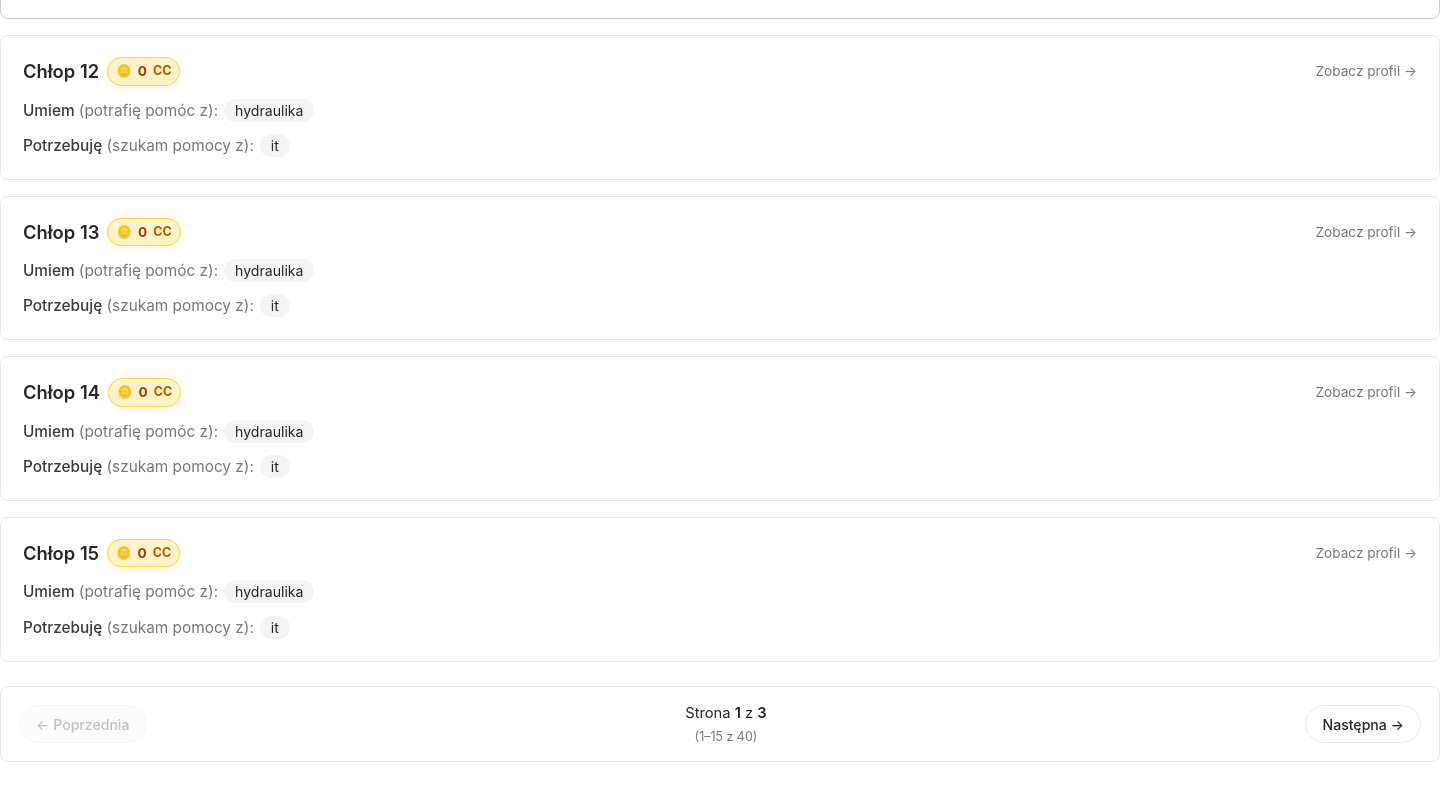
Test: HomeView: stronicowanie › pokazuje 15 kart na stronę i przełącza strony
(page scrolled)
Check: the button "← Poprzednia" is disabled, box [19,705,146,743]
Click the button "Następna →": (1363,724) [1306,705,1421,743]
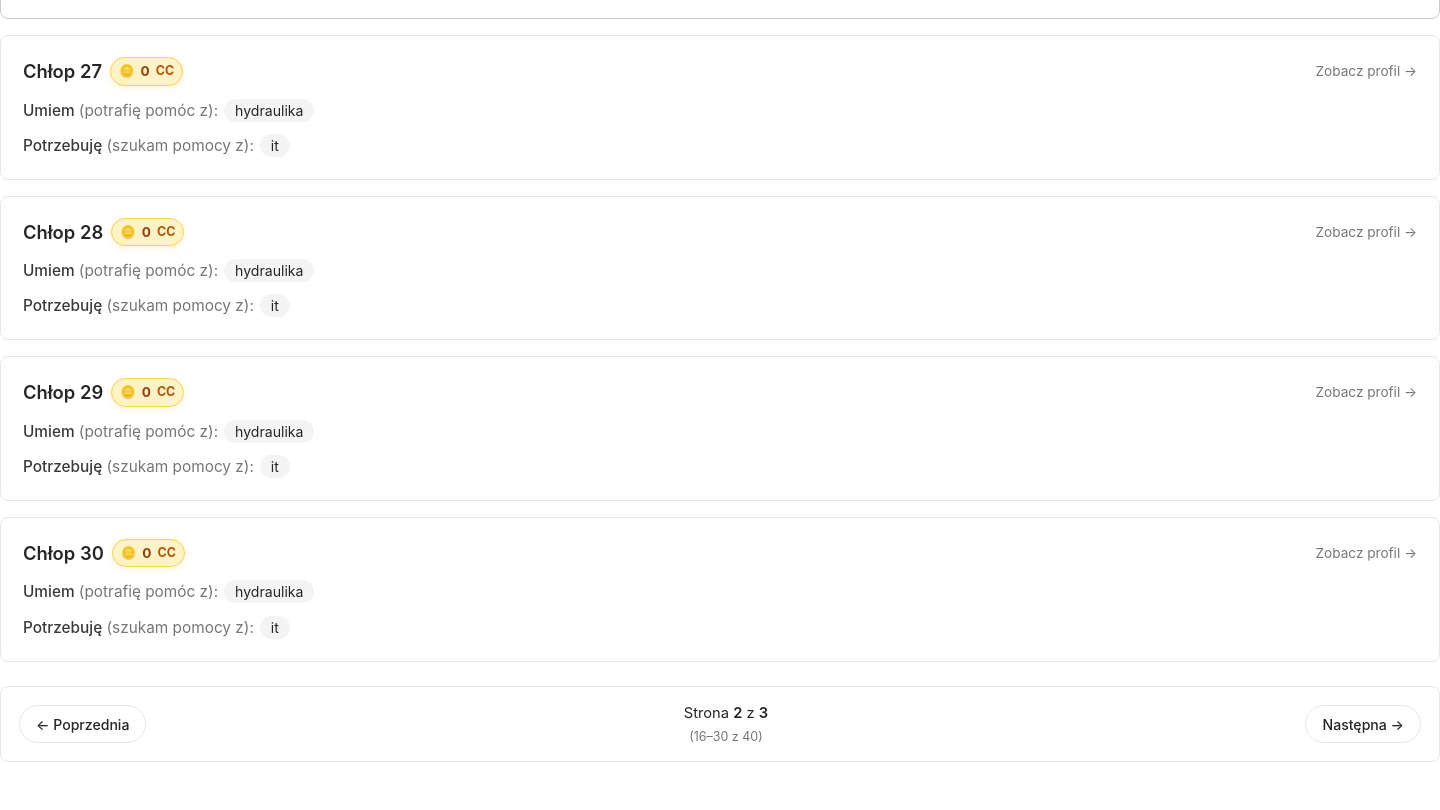
Check: the element showing "Strona 2 z 3" is shown, box [684,701,768,725]
Check: the button "← Poprzednia" is enabled, box [19,705,146,743]
Click the button "Następna →": (1363,724) [1306,705,1421,743]
(page scrolled)
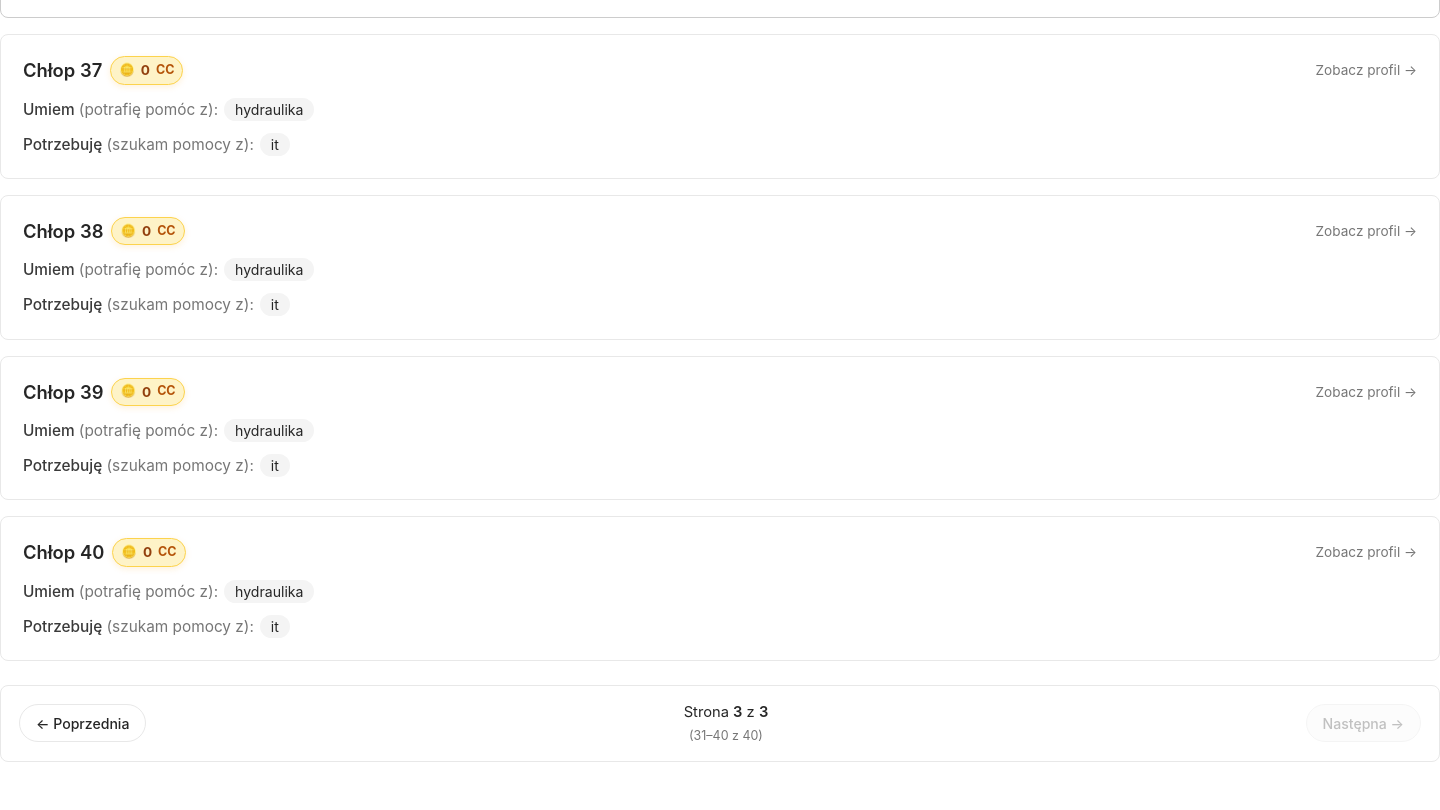
Check: the button "Następna →" is disabled, box [1306,704,1421,742]
